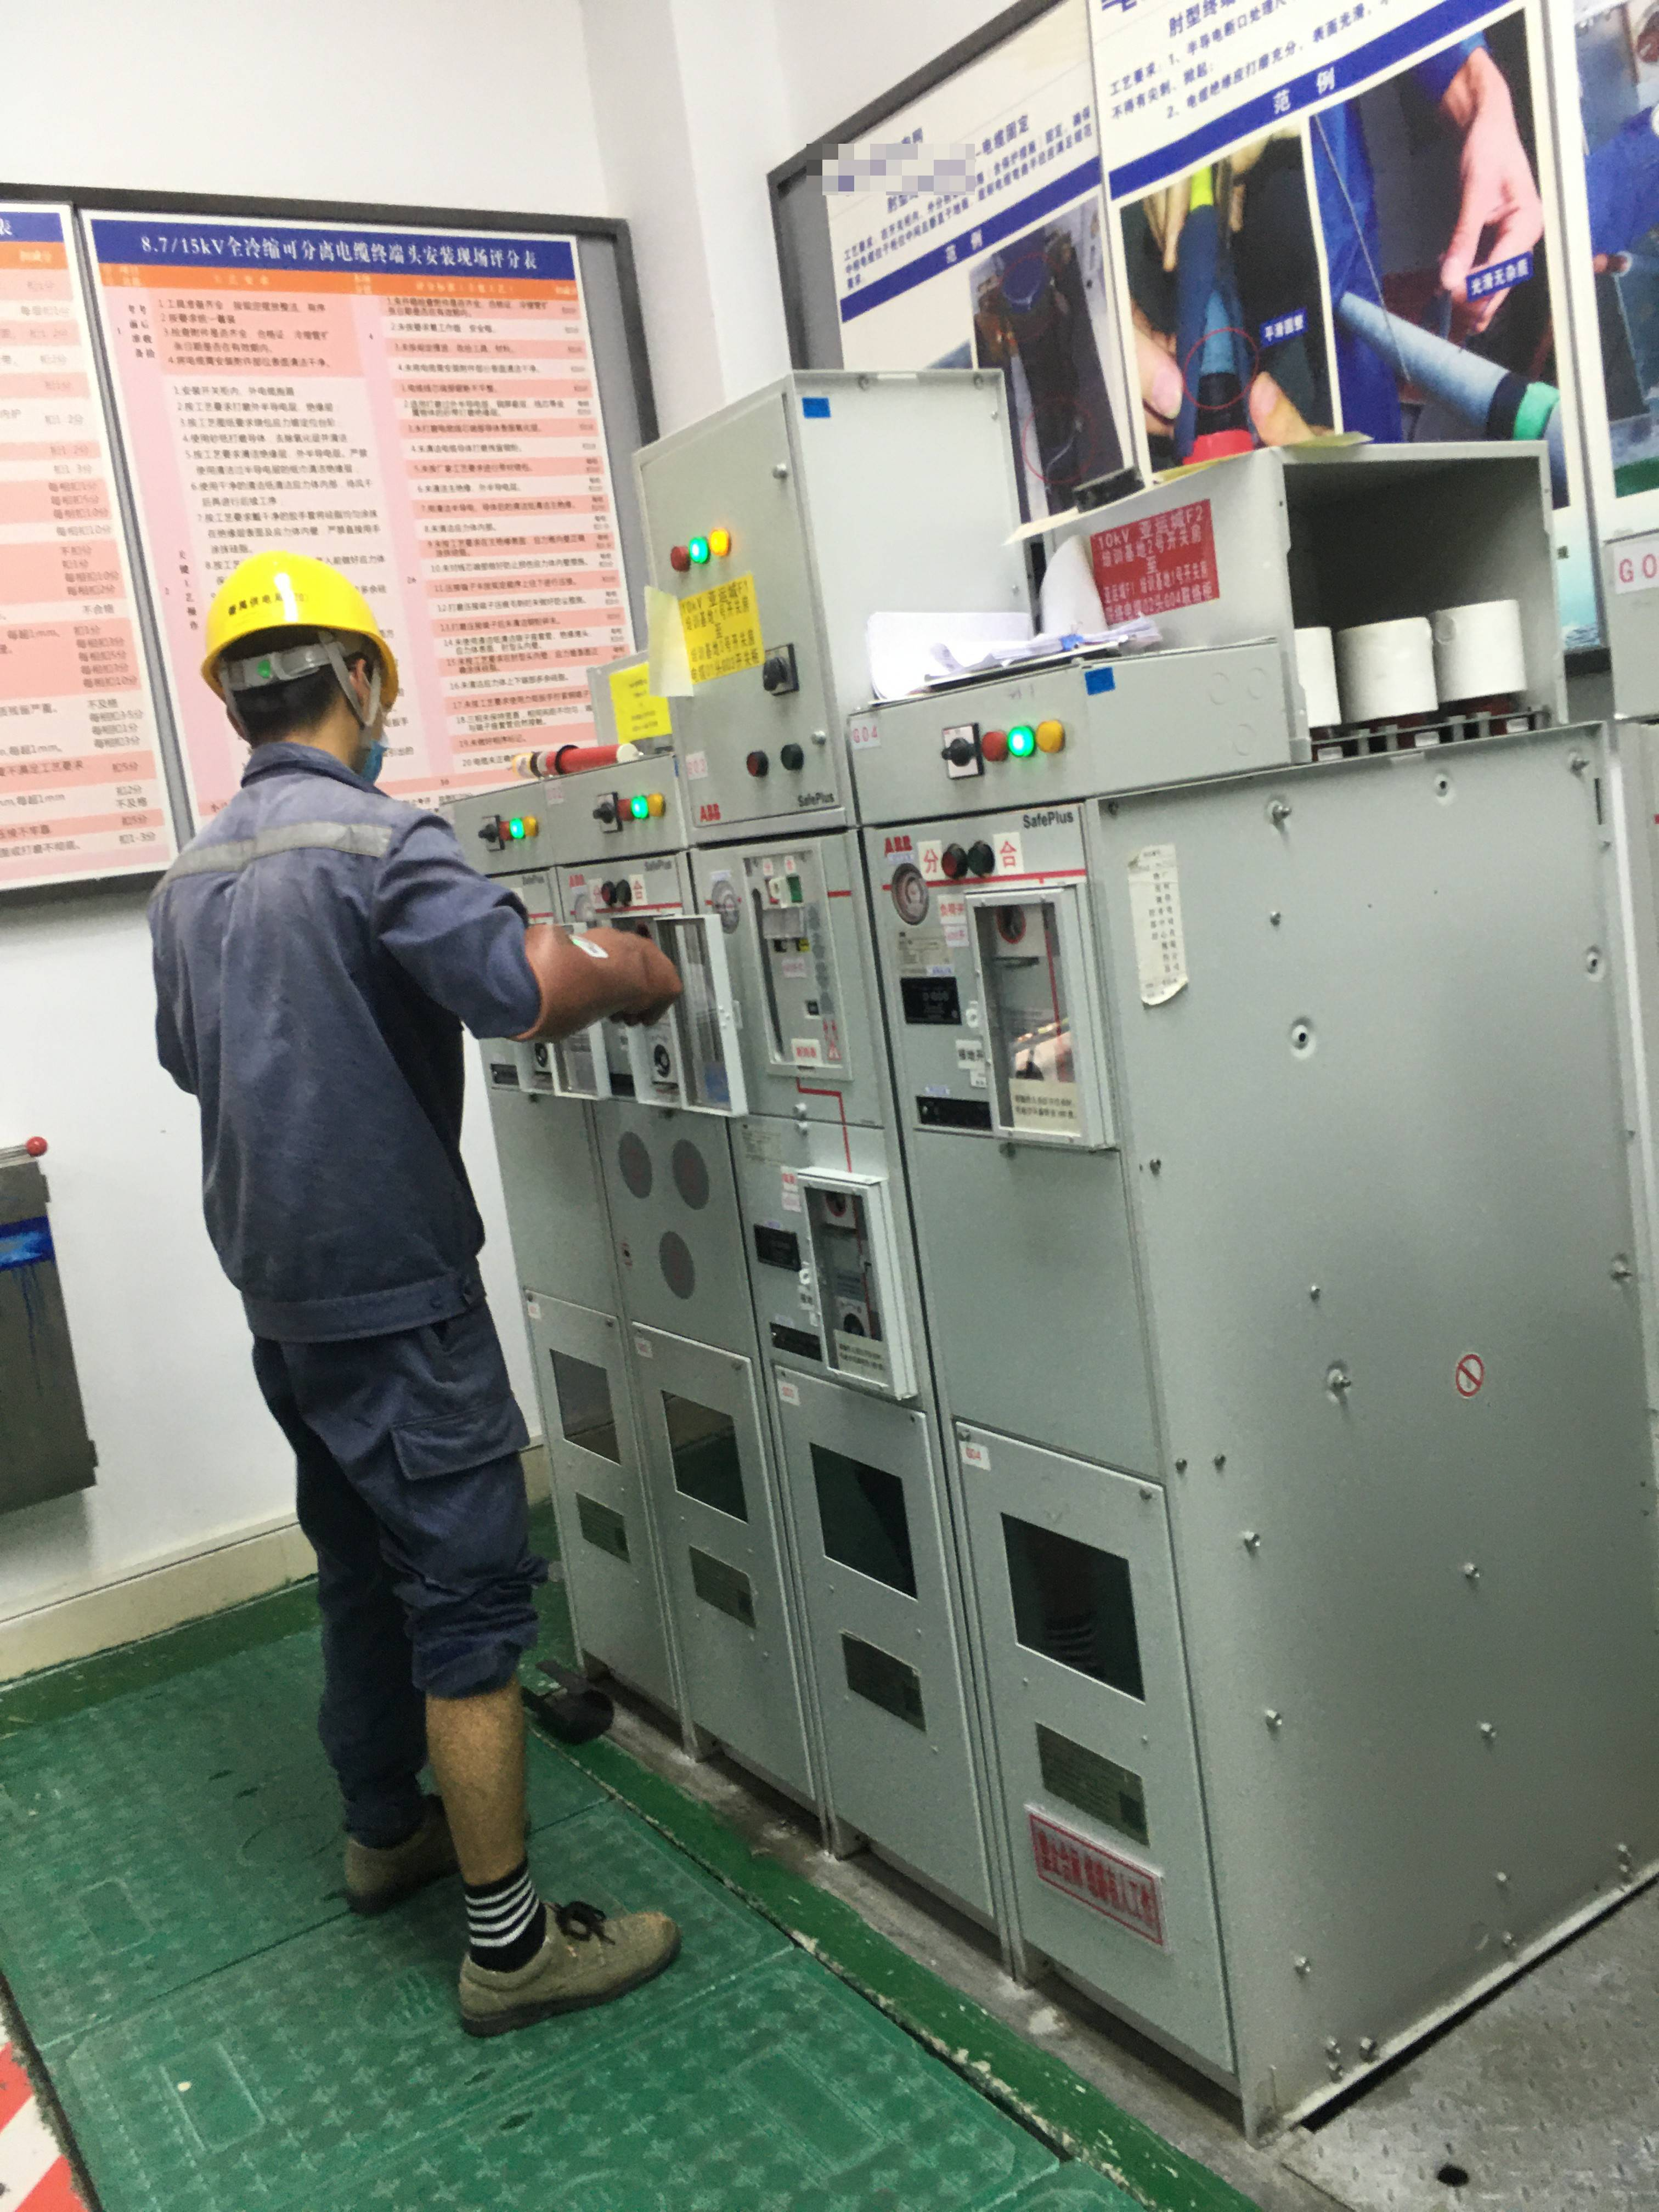downsuit: (265, 1359, 551, 1843)
upsuit: (143, 758, 542, 1346)
wrongbottom: (406, 1656, 558, 1940)
